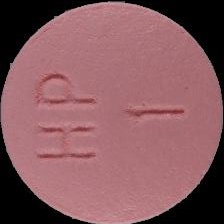50436-4034: (0, 0, 224, 224)
